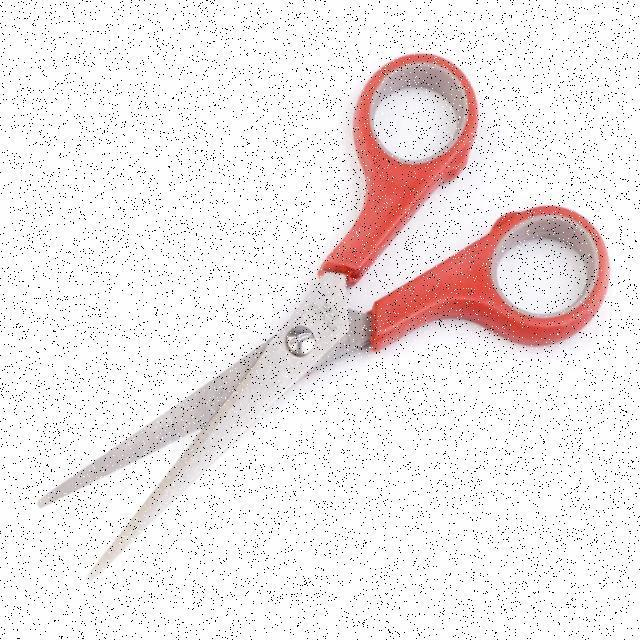scissors: (31, 47, 615, 584)
